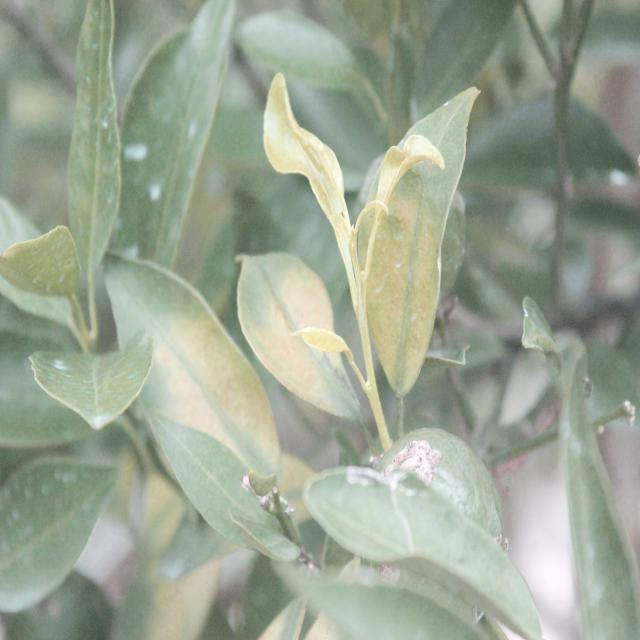greening: (359, 150, 457, 382), (143, 306, 277, 472), (247, 263, 353, 395)
